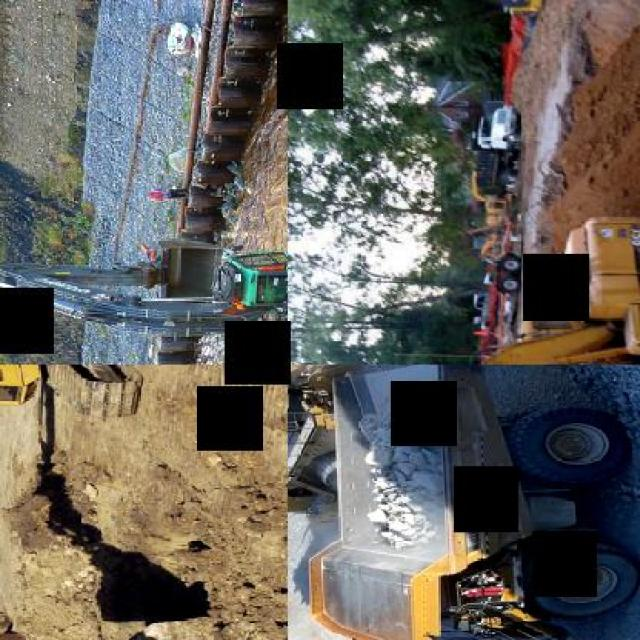buldozerpayloadergrader: (288, 365, 504, 517)
dump_truck: (302, 364, 638, 638)
excavator: (0, 206, 286, 363), (0, 364, 157, 638), (366, 215, 639, 363)
